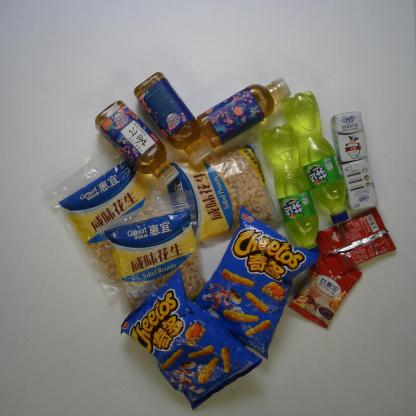Dried Fruit: (40, 135, 204, 296), (143, 131, 288, 253), (100, 191, 220, 334)
Drink: (282, 89, 350, 226), (259, 122, 322, 266), (92, 100, 182, 190), (133, 71, 213, 166), (195, 74, 294, 150)
Instant Drink: (312, 206, 398, 278), (287, 255, 362, 332)
Milk: (336, 158, 380, 212), (328, 108, 370, 164)
Puffed Food: (183, 201, 321, 362), (118, 268, 266, 410)
